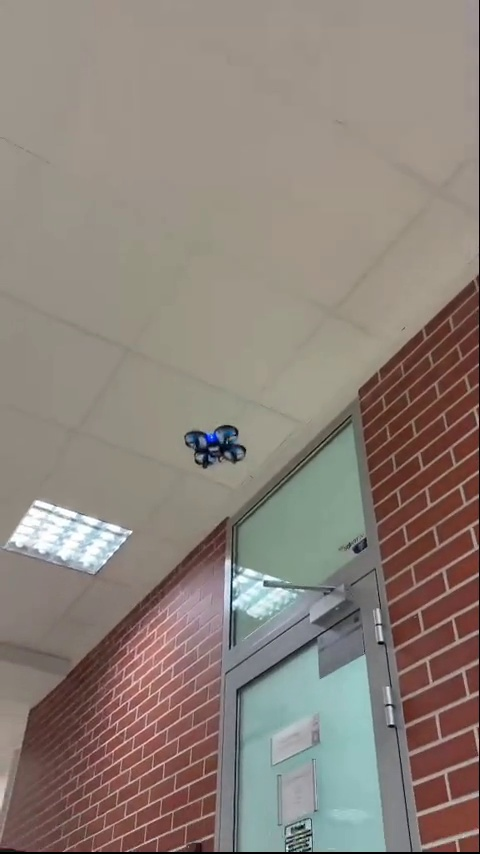drone: (185, 423, 248, 469)
